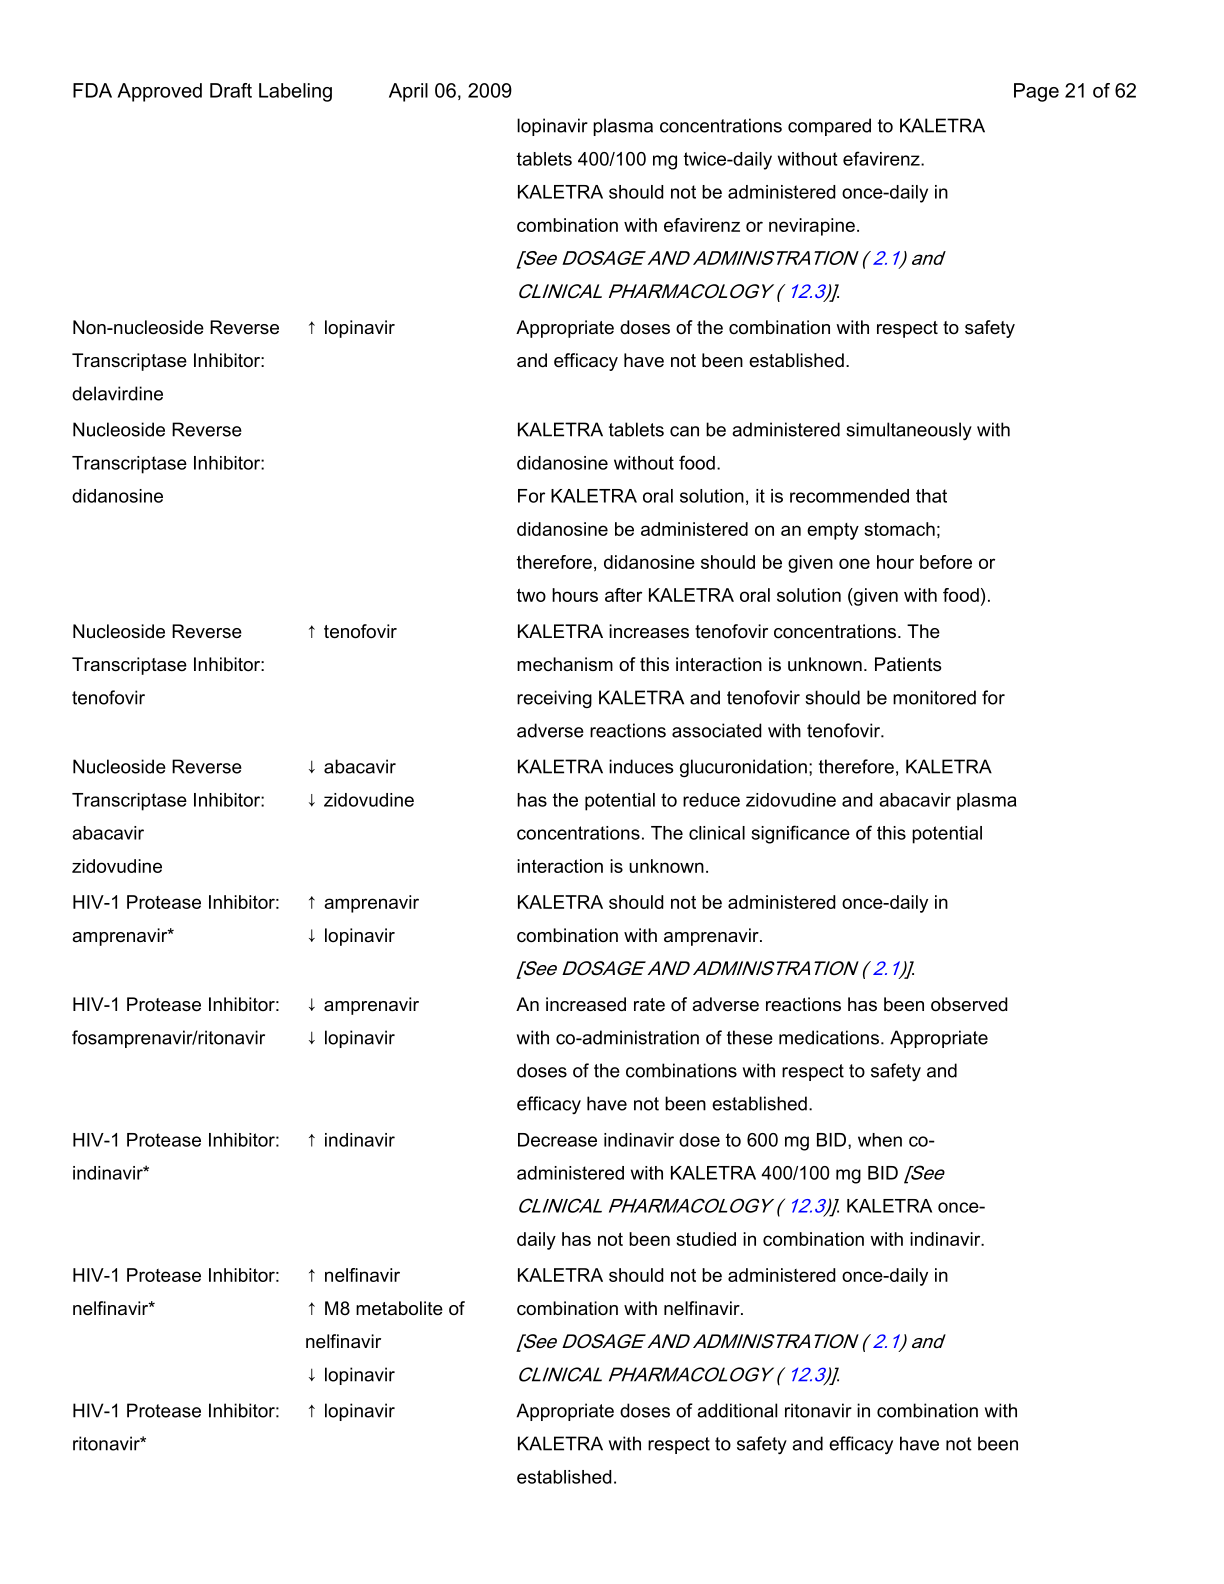nolines: (66, 116, 1020, 1488)
